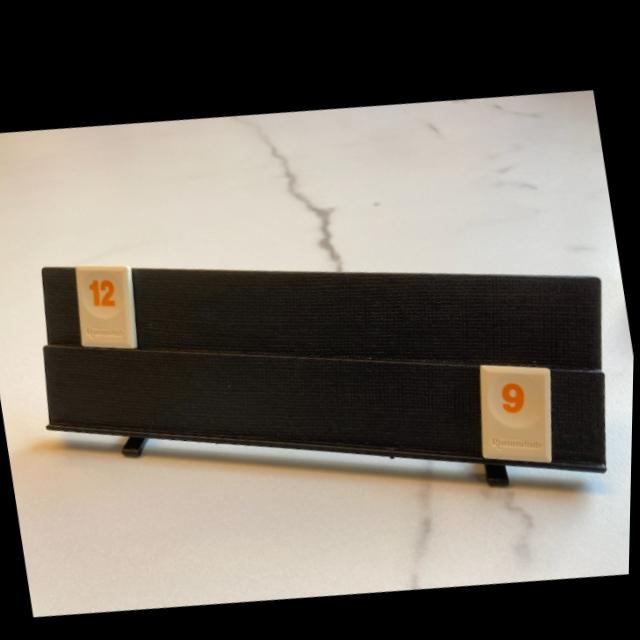orange_12: (78, 262, 138, 344)
orange_9: (482, 354, 552, 449)
